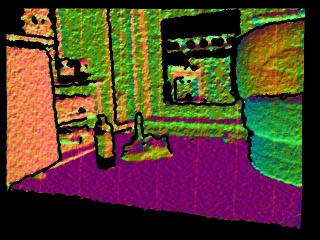station: (132, 112, 146, 143)
